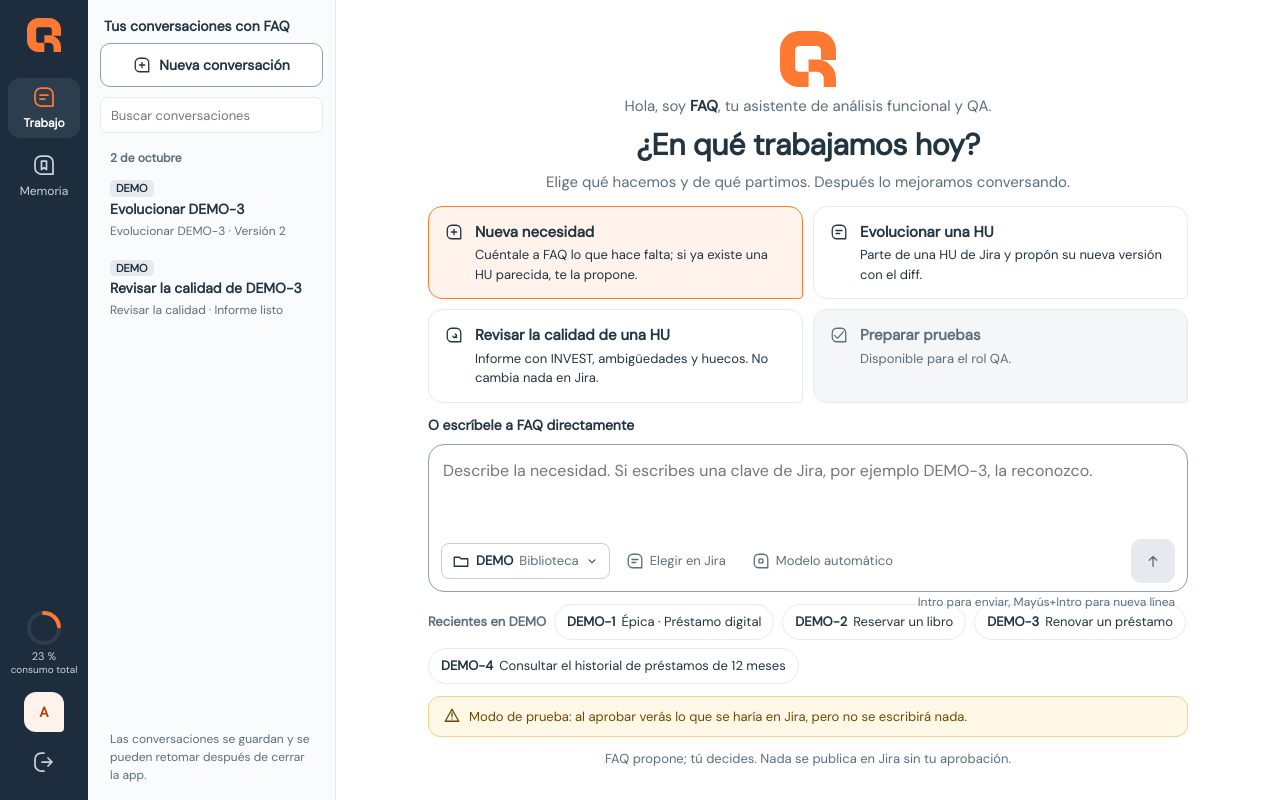
it: Generando: huecos (UI.md §4.4, DESIGN-DECISIONS.md §4 bis) › «Volver a generar» vuelve a Origen y fuentes con la misma petición (la necesidad escrita sigue en la conversación)
This screenshot has width=1280, height=800.
Expected: the button with aria-label "Proyecto de Jira: DEMO" is shown, [441,543,610,579]
Click the text box at (808,495), box [441,457,1175,533]
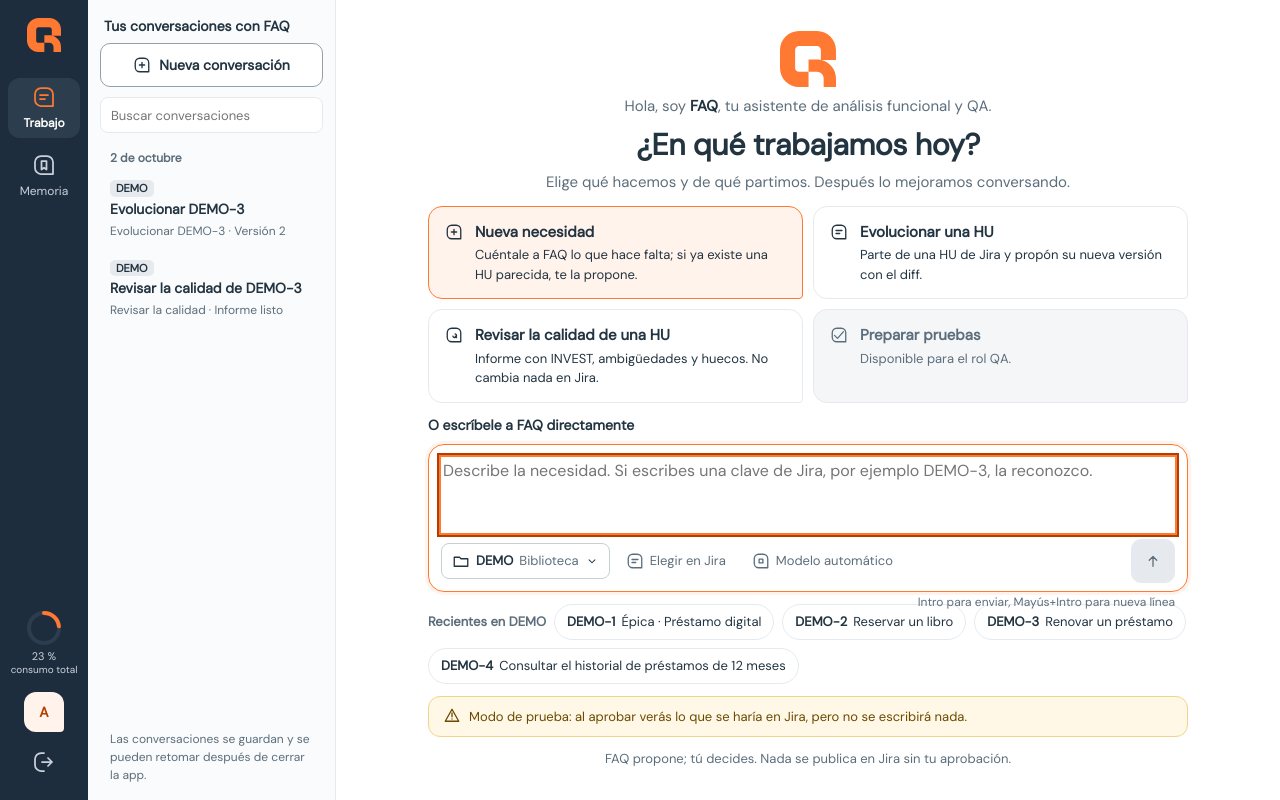
Type keys "Renovar un préstamo desde la app"
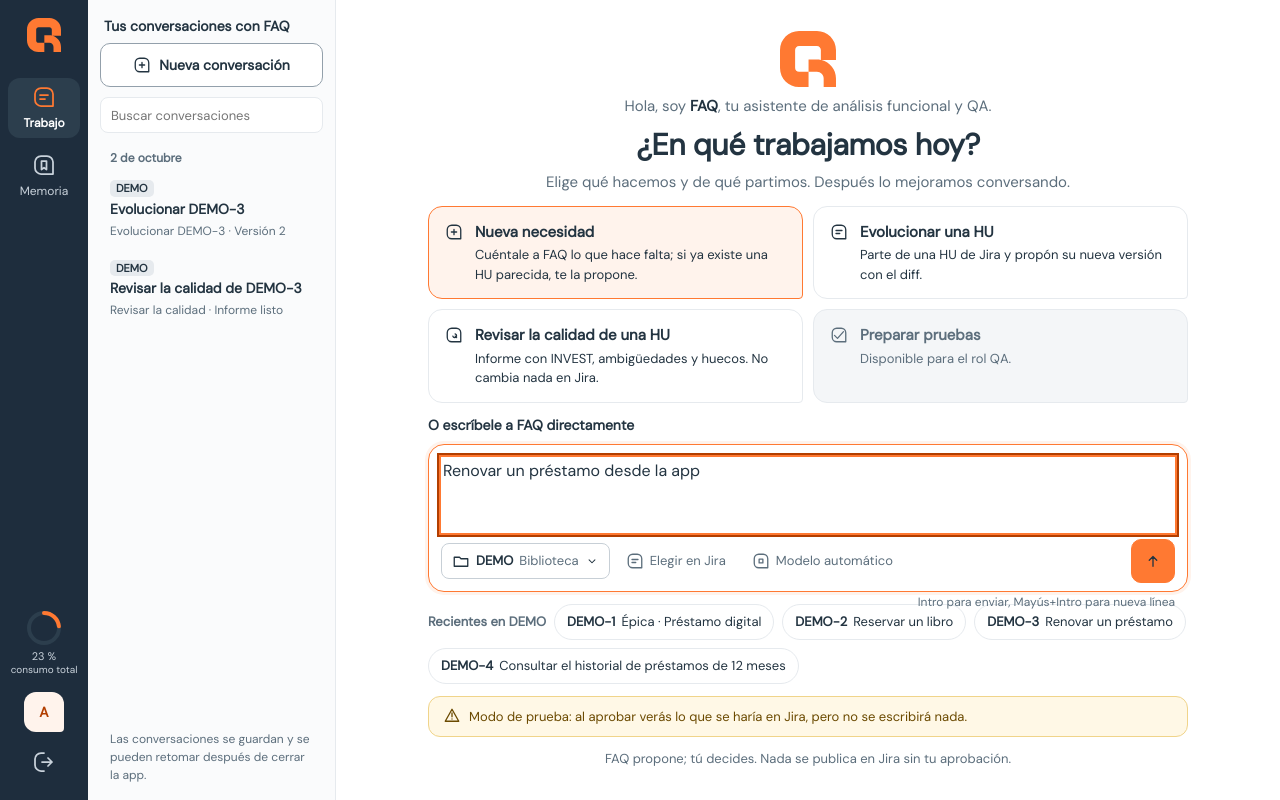
Click the button named "Continuar" at (1153,561), box [1131,539,1175,583]
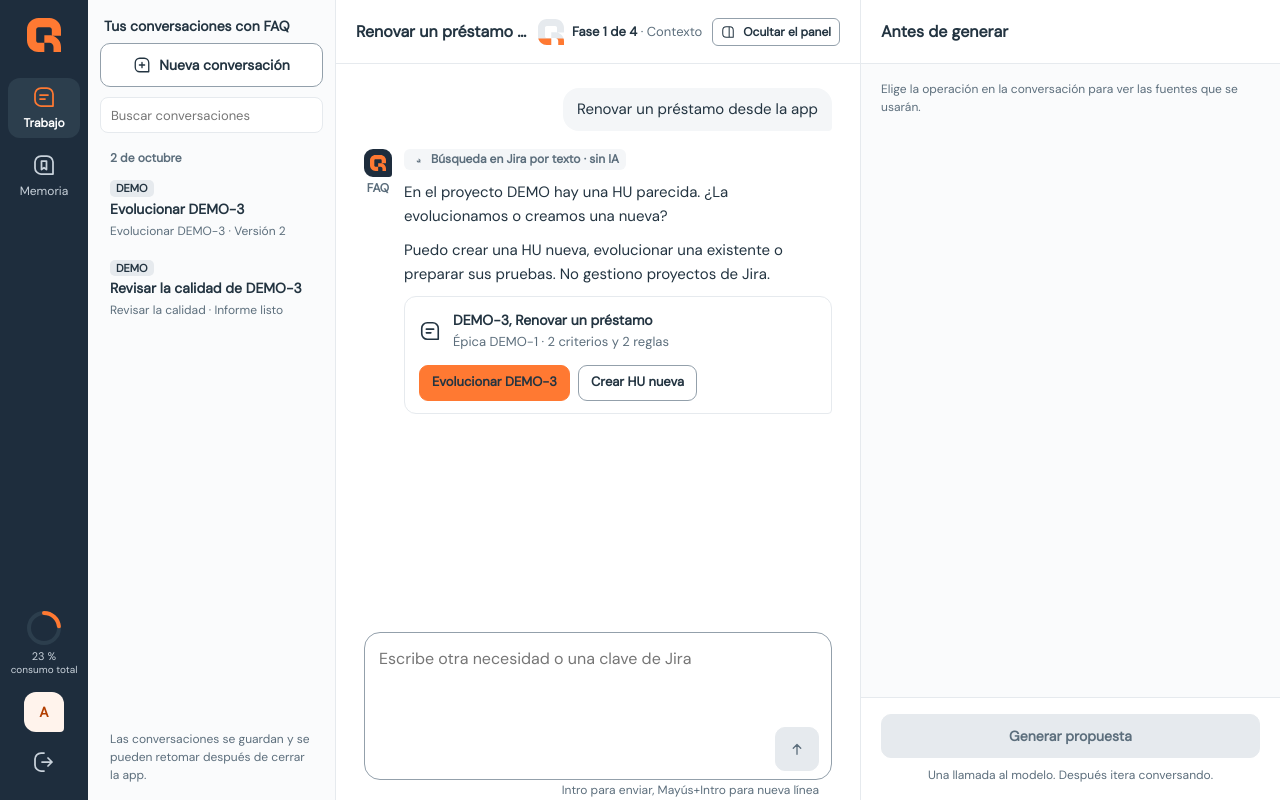
Click the button "Evolucionar DEMO-3" at (494,383), box [419,365,570,401]
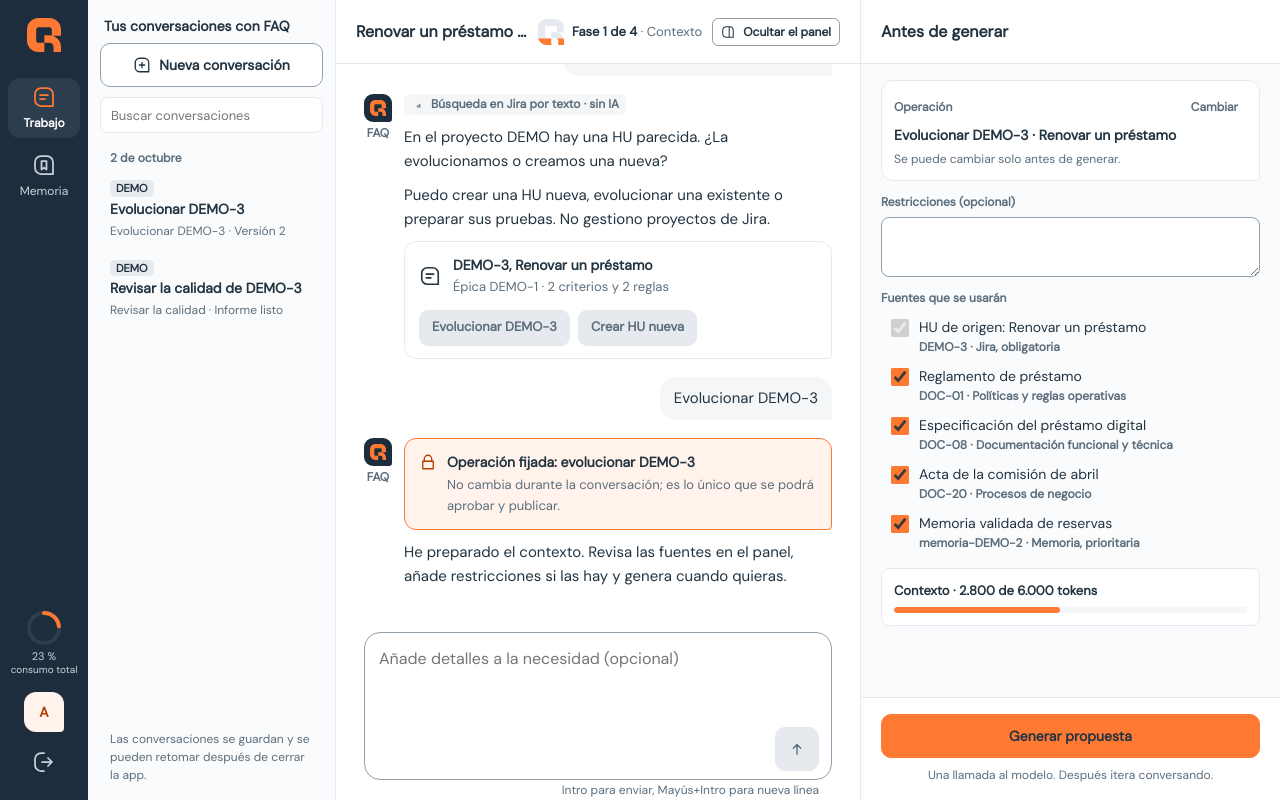
Expected: the checkbox labelled "HU de origen: Renovar un préstamo DEMO-3 · Jira, obligatoria" is shown, [891,319,909,337]
Click the button "Generar propuesta" at (1070,736), box [881,714,1260,758]
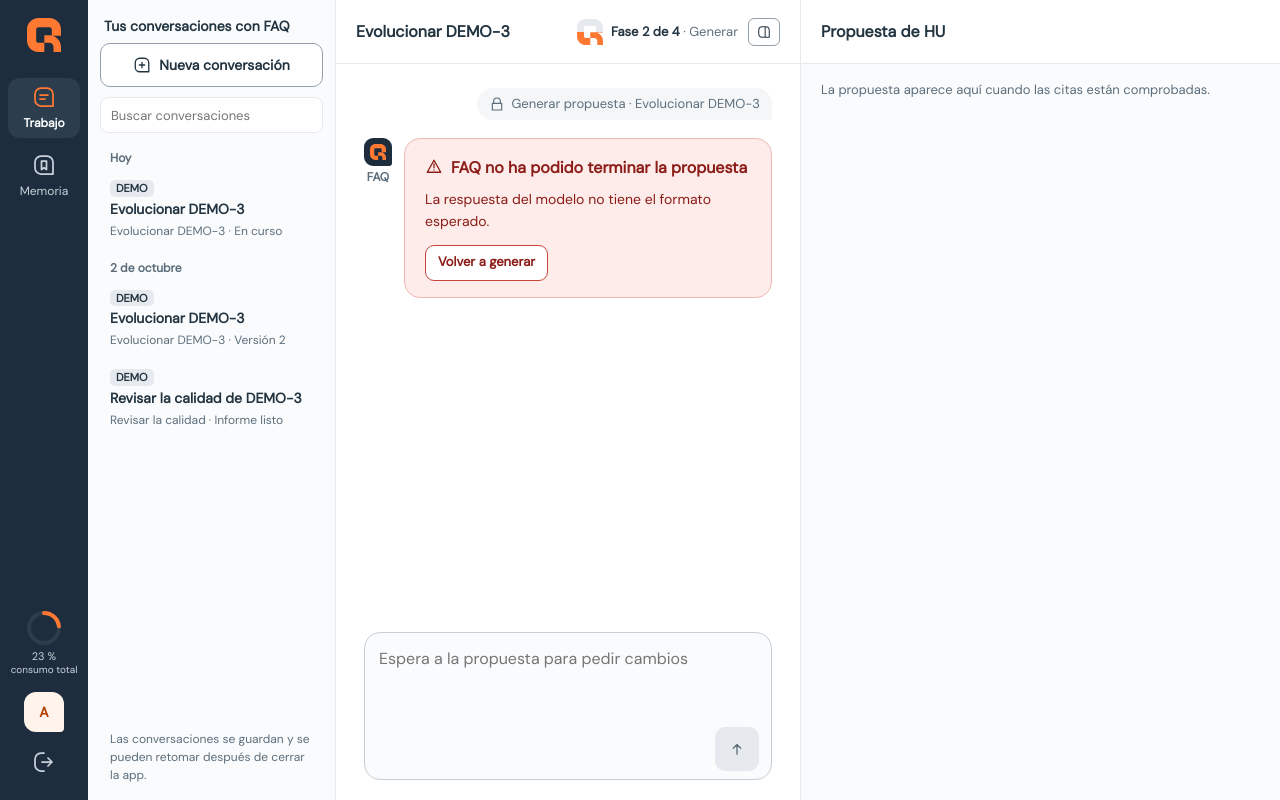
Expected: the picture named "Avance: fase 2 de 4, Generar" is shown, [577,18,738,44]
Expected: the heading "FAQ no ha podido terminar la propuesta" is shown, [425,154,747,180]
Click the button "Volver a generar" at (487,263), box [425,245,548,281]
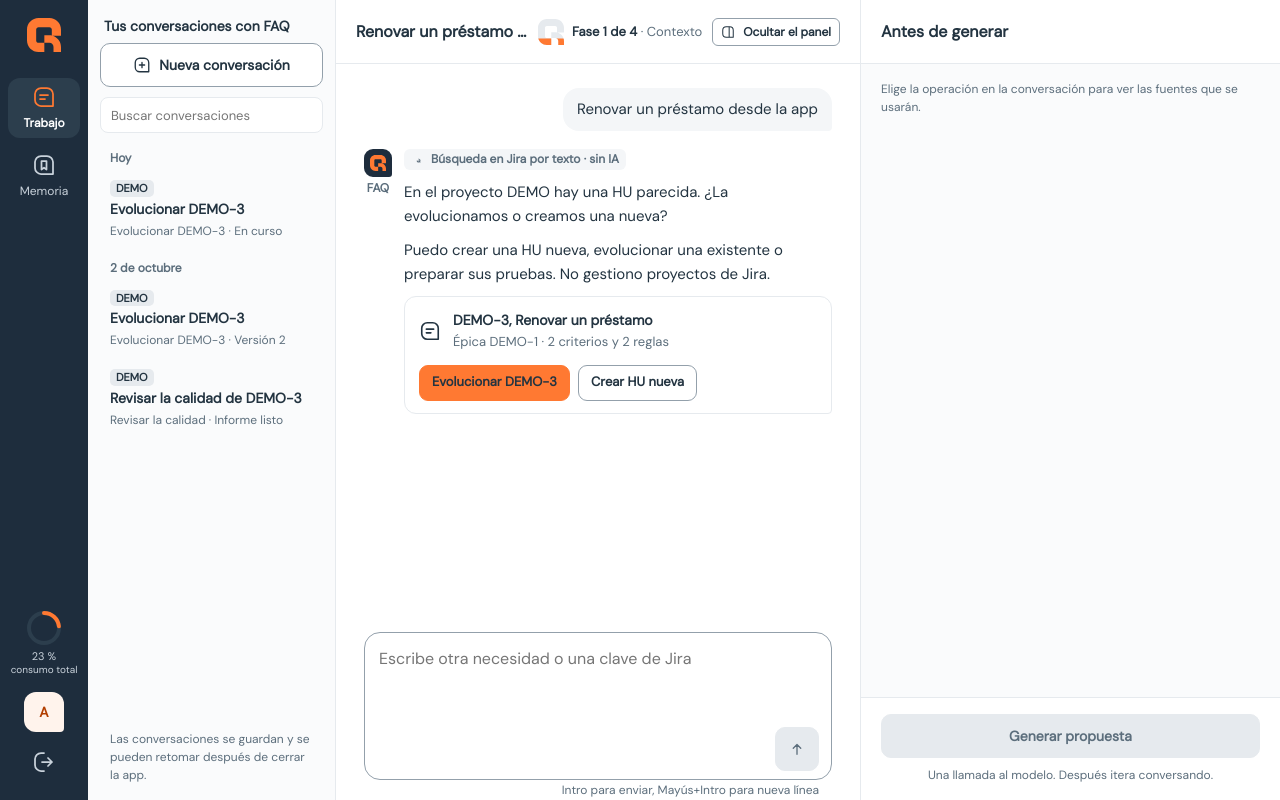
Expected: the element "Antes de generar" is shown, [860,0,1279,799]
Expected: the heading "Renovar un préstamo desde la app" is shown, [356,20,528,44]
Expected: the list item "Renovar un préstamo desde la app" is shown, [563,88,832,131]
